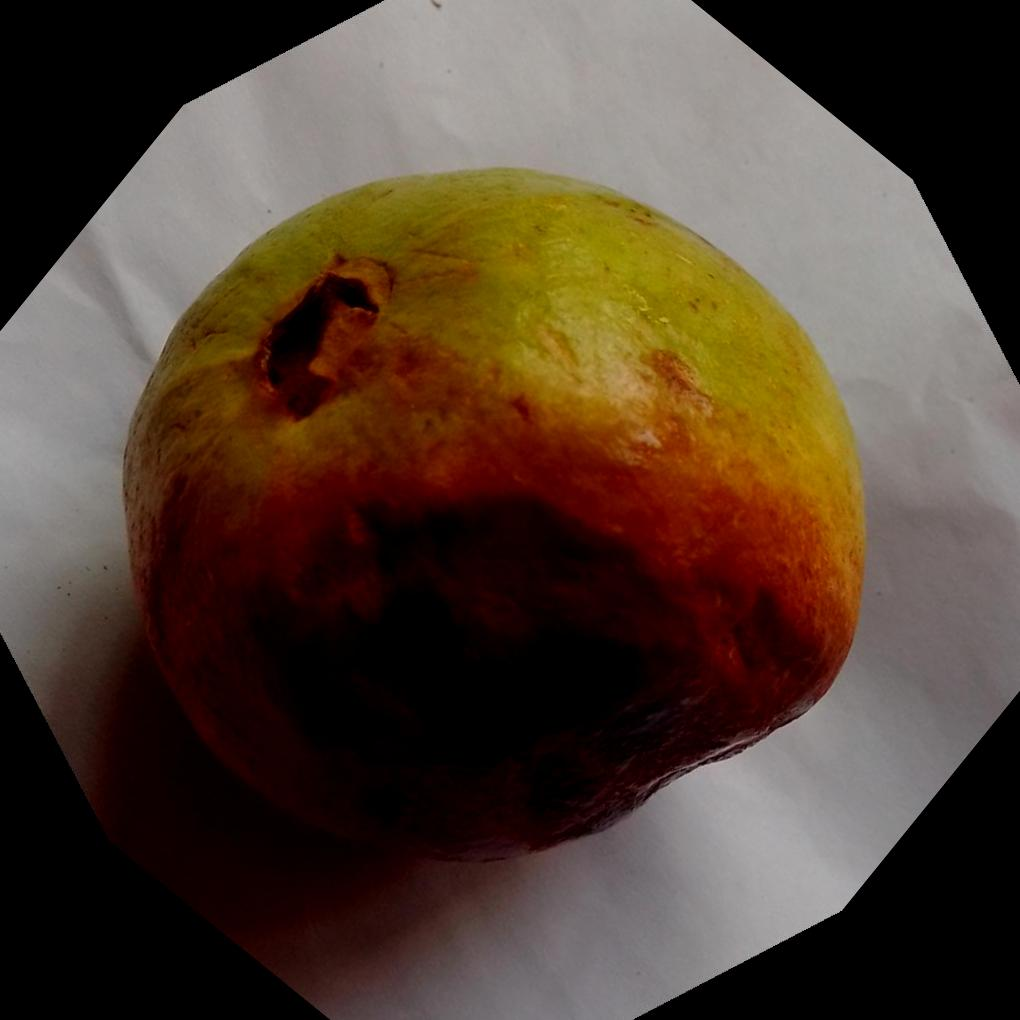FreshOrange: (116, 161, 867, 863)
